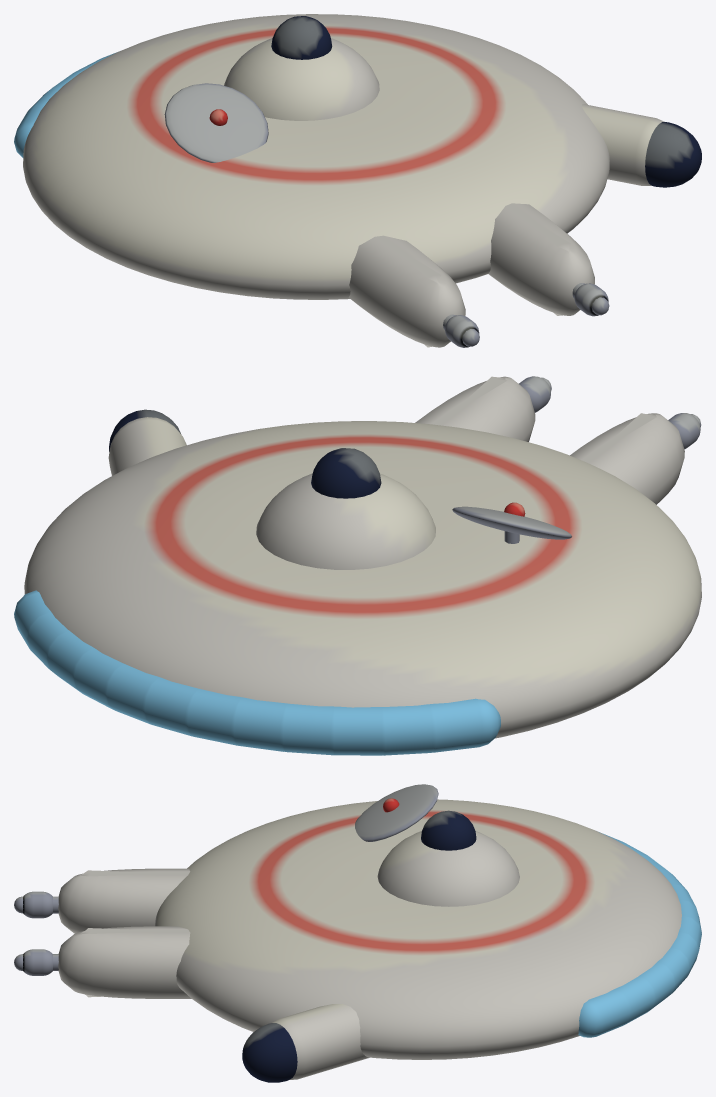
Rendered from saucer-starfighter.obj.
3 renders of one model, top to bottom at view 1: azimuth 30°, elevation 25°; view 2: azimuth 150°, elevation 25°; view 3: azimuth 270°, elevation 25°, orthographic. The views are drawn at different scales.
Parts seen in each view (by area): view 1: starfighter; view 2: starfighter; view 3: starfighter.
Boxes of the visible parts, x1,y1,x2,y2 form: starfighter: [14, 14, 701, 347]; starfighter: [14, 376, 701, 755]; starfighter: [14, 784, 701, 1082].
Bounding box in the file's own units: 239 × 74.2 × 282.
